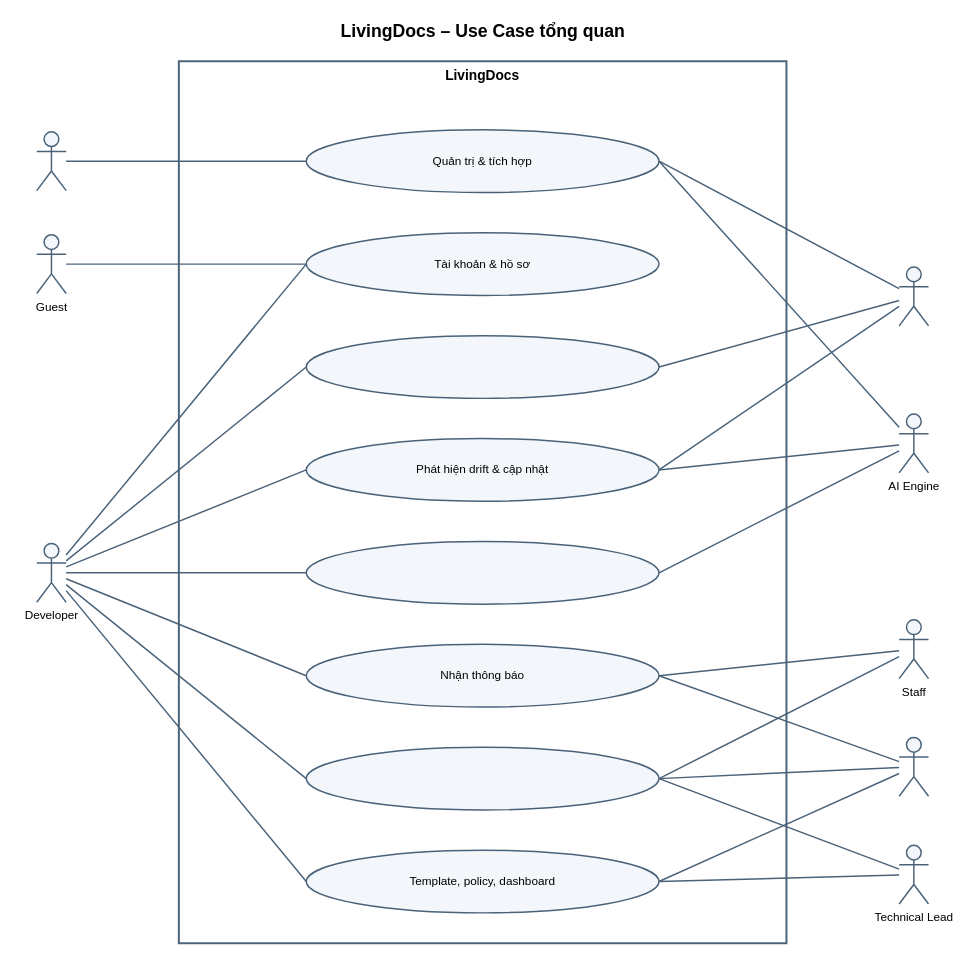
This 970x960 diagram has some shape labels left out. Here are the shapes that lost their labels. From the top down, the centre of each, then its label:
[51,161]: Administrator
[913,296]: GitHub
[482,366]: Kết nối/quản lý repo
[482,572]: Sinh tài liệu & Knowledge Base
[482,778]: Duyệt, publish, rollback, lịch sử
[913,766]: Manager
